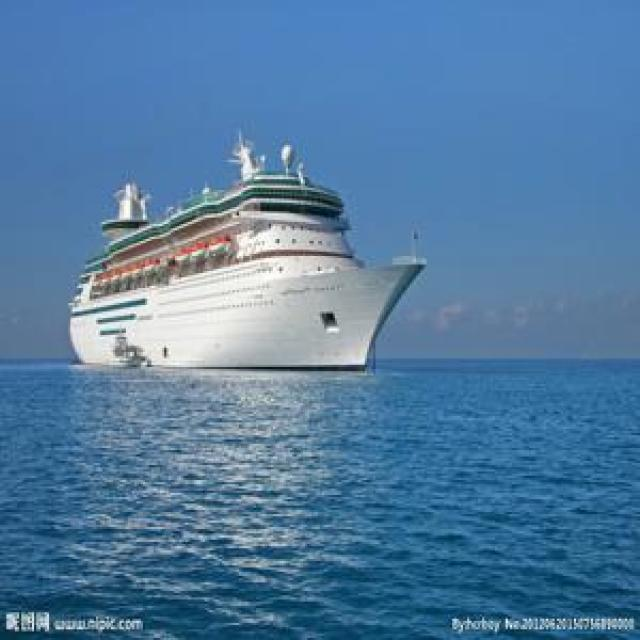passenger ship: (54, 138, 418, 380)
